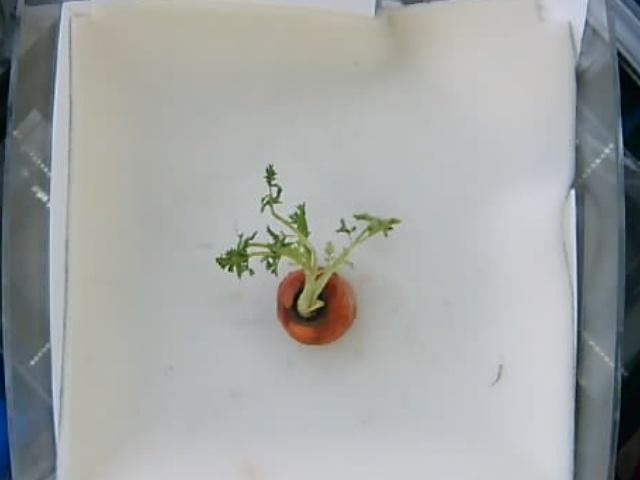Carrot: (215, 161, 405, 346)
